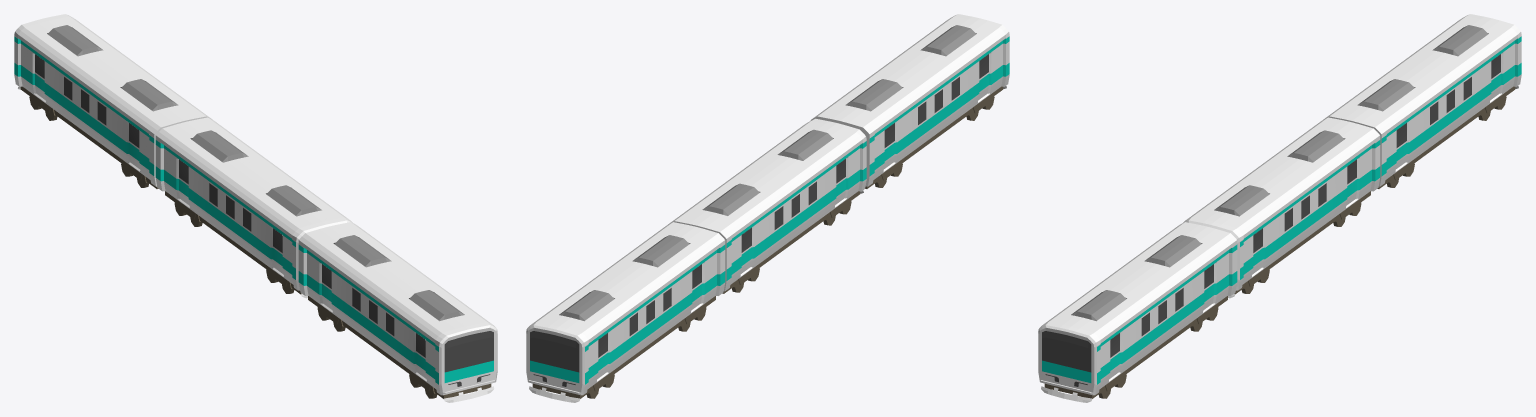
The model's file is train.fbx.
3 renders of one model, left to right at view 1: azimuth 30°, elevation 25°; view 2: azimuth 150°, elevation 25°; view 3: azimuth 330°, elevation 25°, orthographic.
Parts seen in each view (by area): view 1: polySurface175; view 2: polySurface175; view 3: polySurface175.
Part boxes in pixels (<box>): polySurface175: <box>14,14,497,402</box>; polySurface175: <box>526,14,1009,402</box>; polySurface175: <box>1038,14,1521,402</box>.
Bounding box in the file's own units: 1.23 × 1.57 × 15.65.
